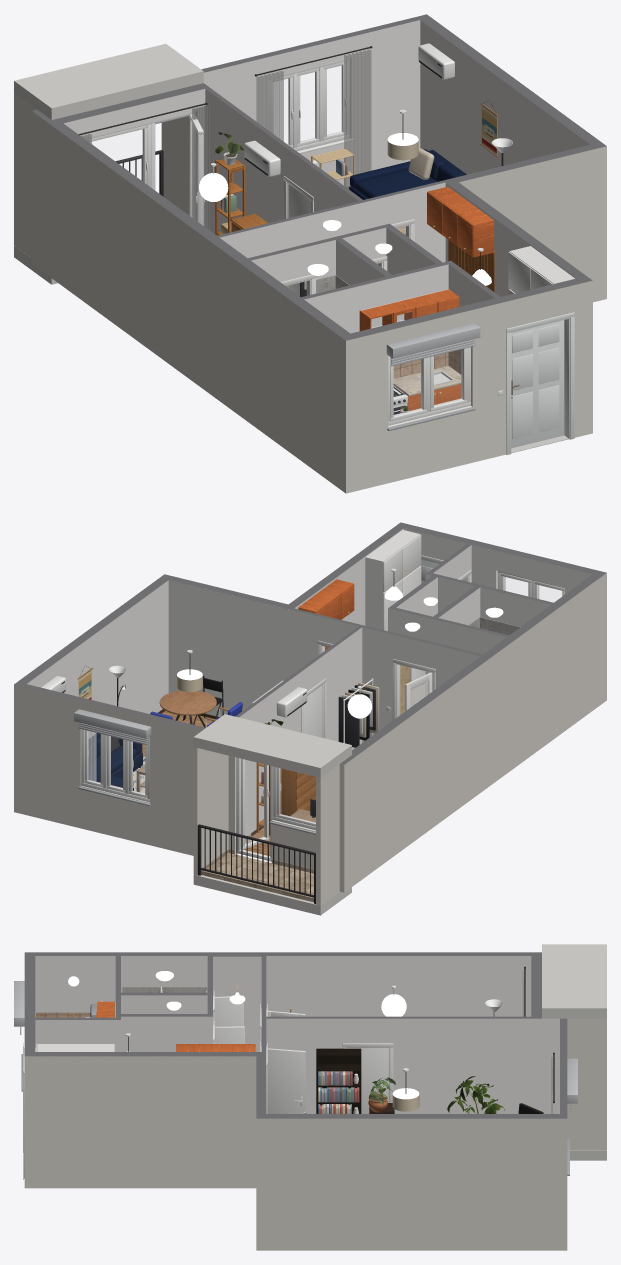
File: flat.glb
3 views of the same model, one above another, from view 1: azimuth 30°, elevation 25°; view 2: azimuth 150°, elevation 25°; view 3: azimuth 270°, elevation 25° (orthographic). The views are drawn at different scales.
Parts seen in each view (by area): view 1: walls_ext, walls_living, walls_top, walls_bedroom, loggia_slabs, walls_hall, leaf_door_front, walls_loggia, walls_kitchen, window_win_kitchen, window_win_living, curtain_living_r (+22 smaller); view 2: walls_ext, walls_living, walls_bedroom, walls_top, walls_loggia, loggia_slabs, walls_hall, window_win_living, hall_cabinet, walls_kitchen, railing, walls_bath (+19 smaller); view 3: walls_ext, walls_living, walls_bedroom, walls_top, walls_hall, loggia_slabs, walls_loggia, walls_kitchen, bookcase, walls_bath, leaf_door_living, walls_wc (+13 smaller).
Part boxes in pixels (left/top/right/bottom): walls_ext: left=31, top=111, right=606, bottom=493; walls_living: left=203, top=20, right=589, bottom=186; walls_top: left=32, top=14, right=606, bottom=340; walls_bedroom: left=64, top=89, right=358, bottom=234; loggia_slabs: left=14, top=44, right=203, bottom=284; walls_hall: left=220, top=182, right=576, bottom=296; leaf_door_front: left=511, top=320, right=564, bottom=448; walls_loggia: left=14, top=93, right=189, bottom=257; walls_kitchen: left=304, top=264, right=494, bottom=427; window_win_kitchen: left=386, top=323, right=480, bottom=430; window_win_living: left=268, top=58, right=354, bottom=153; curtain_living_r: left=344, top=49, right=371, bottom=188; walls_ext: left=14, top=573, right=606, bottom=892; walls_living: left=27, top=580, right=357, bottom=802; walls_bedroom: left=235, top=627, right=480, bottom=853; walls_top: left=14, top=522, right=606, bottom=764; walls_loggia: left=193, top=747, right=344, bottom=905; loggia_slabs: left=193, top=714, right=351, bottom=915; walls_hall: left=294, top=528, right=506, bottom=672; window_win_living: left=74, top=709, right=151, bottom=806; hall_cabinet: left=365, top=530, right=421, bottom=631; walls_kitchen: left=433, top=545, right=592, bottom=593; railing: left=197, top=824, right=315, bottom=903; walls_bath: left=439, top=587, right=550, bottom=626; walls_ext: left=24, top=1056, right=567, bottom=1250; walls_living: left=266, top=1018, right=559, bottom=1113; walls_bedroom: left=266, top=957, right=531, bottom=1016; walls_top: left=24, top=952, right=567, bottom=1118; walls_hall: left=35, top=956, right=261, bottom=1051; loggia_slabs: left=542, top=944, right=606, bottom=1160; walls_loggia: left=567, top=1018, right=606, bottom=1150; walls_kitchen: left=35, top=957, right=115, bottom=1012; bookcase: left=316, top=1048, right=361, bottom=1113; walls_bath: left=121, top=957, right=207, bottom=992; leaf_door_living: left=267, top=1048, right=305, bottom=1113; walls_wc: left=121, top=995, right=207, bottom=1013.
Bounding box in the file's own units: 7.04 × 3 × 10.59.
91 materials, 36 textured.
